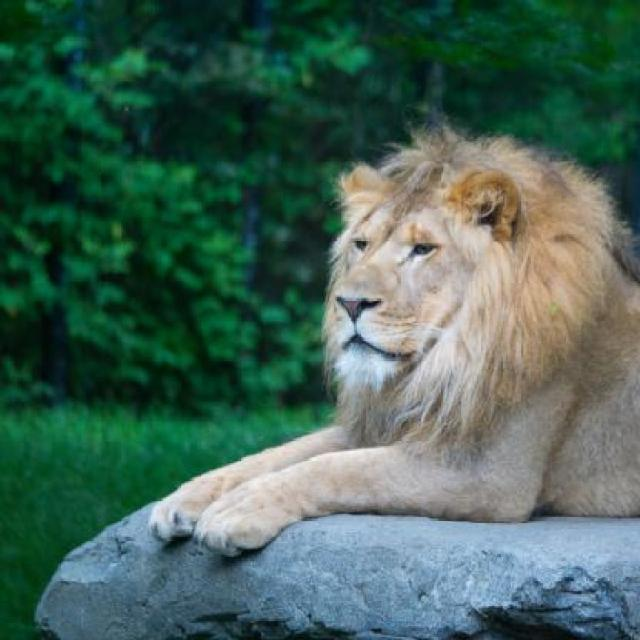Lion: (140, 117, 632, 585)
